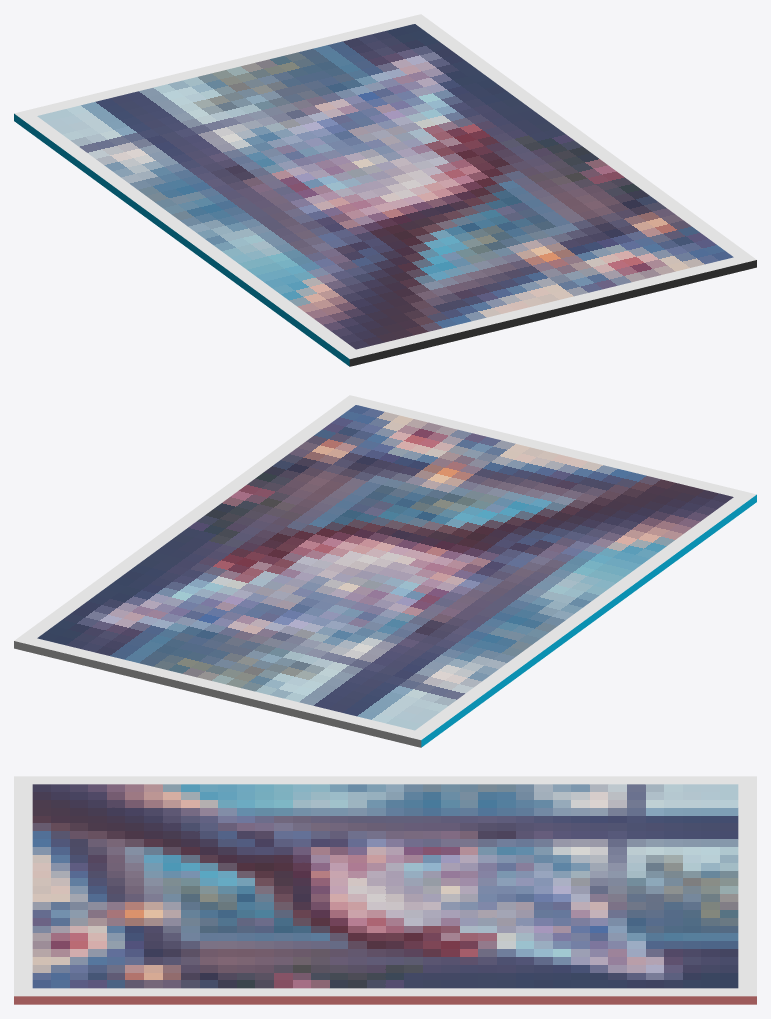
File: card_base_model.gltf
3 views of the same model, one above another, from view 1: azimuth 30°, elevation 25°; view 2: azimuth 150°, elevation 25°; view 3: azimuth 270°, elevation 25° (orthographic). The views are drawn at different scales.
Visible parts, largest first — view 1: mesh; view 2: mesh; view 3: mesh.
Boxes of the visible parts, x1,y1,x2,y2 form: mesh: (14,14,756,366); mesh: (14,395,756,747); mesh: (14,776,756,1004).
Bounding box in the file's own units: 0.875 × 0.0156 × 1.25.
Materials: 1 (1 with a texture image).
